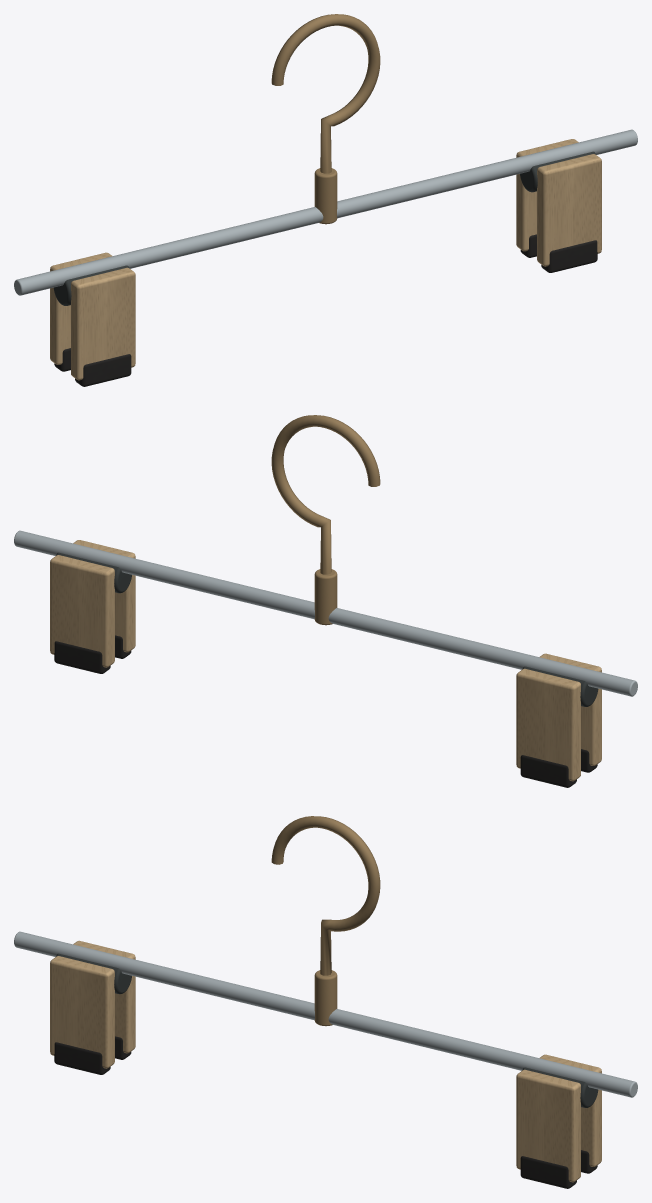
The model's file is innerscene-clip-rail.glb.
3 renders of one model, top to bottom at view 1: azimuth 30°, elevation 25°; view 2: azimuth 150°, elevation 25°; view 3: azimuth 330°, elevation 25°, orthographic.
Parts seen in each view (by area): view 1: Steel trouser support rail, Opposed trouser clip jaw.002, Opposed trouser clip jaw, Curved hanger suspension hook, Opposed trouser clip jaw.003, Opposed trouser clip jaw.001, Soft gripping pad, Hanger hook-to-rail connection sleeve, Soft gripping pad.002, Clip spring hinge; view 2: Steel trouser support rail, Opposed trouser clip jaw.003, Opposed trouser clip jaw.001, Curved hanger suspension hook, Opposed trouser clip jaw.002, Opposed trouser clip jaw, Soft gripping pad.001, Hanger hook-to-rail connection sleeve, Soft gripping pad.003, Clip spring hinge; view 3: Steel trouser support rail, Opposed trouser clip jaw, Opposed trouser clip jaw.002, Curved hanger suspension hook, Opposed trouser clip jaw.001, Opposed trouser clip jaw.003, Hanger hook-to-rail connection sleeve, Soft gripping pad.002, Soft gripping pad, Clip spring hinge.001.
Part boxes in pixels (left/top/right/bottom): Steel trouser support rail: left=14, top=129, right=637, bottom=295; Opposed trouser clip jaw.002: left=537, top=154, right=601, bottom=266; Opposed trouser clip jaw: left=71, top=267, right=135, bottom=380; Curved hanger suspension hook: left=271, top=14, right=380, bottom=173; Opposed trouser clip jaw.003: left=516, top=139, right=578, bottom=251; Opposed trouser clip jaw.001: left=50, top=252, right=112, bottom=364; Soft gripping pad: left=75, top=354, right=131, bottom=386; Hanger hook-to-rail connection sleeve: left=314, top=168, right=337, bottom=224; Soft gripping pad.002: left=541, top=240, right=597, bottom=272; Clip spring hinge: left=53, top=265, right=129, bottom=305; Steel trouser support rail: left=14, top=530, right=637, bottom=696; Opposed trouser clip jaw.003: left=50, top=555, right=114, bottom=667; Opposed trouser clip jaw.001: left=516, top=668, right=580, bottom=781; Curved hanger suspension hook: left=271, top=415, right=380, bottom=574; Opposed trouser clip jaw.002: left=73, top=540, right=135, bottom=652; Opposed trouser clip jaw: left=539, top=653, right=601, bottom=765; Soft gripping pad.001: left=520, top=755, right=576, bottom=787; Hanger hook-to-rail connection sleeve: left=314, top=569, right=337, bottom=625; Soft gripping pad.003: left=54, top=641, right=110, bottom=673; Clip spring hinge: left=522, top=666, right=598, bottom=706; Steel trouser support rail: left=14, top=931, right=637, bottom=1097; Opposed trouser clip jaw: left=50, top=956, right=114, bottom=1068; Opposed trouser clip jaw.002: left=516, top=1069, right=580, bottom=1182; Curved hanger suspension hook: left=271, top=816, right=380, bottom=975; Opposed trouser clip jaw.001: left=73, top=940, right=135, bottom=1053; Opposed trouser clip jaw.003: left=539, top=1054, right=601, bottom=1166; Hanger hook-to-rail connection sleeve: left=314, top=970, right=337, bottom=1026; Soft gripping pad.002: left=520, top=1156, right=576, bottom=1188; Soft gripping pad: left=54, top=1042, right=110, bottom=1074; Clip spring hinge.001: left=522, top=1067, right=598, bottom=1107.
Size of the model in its own units: 0.344 by 0.1595 by 0.029.
Materials: 6 (6 with a texture image).
